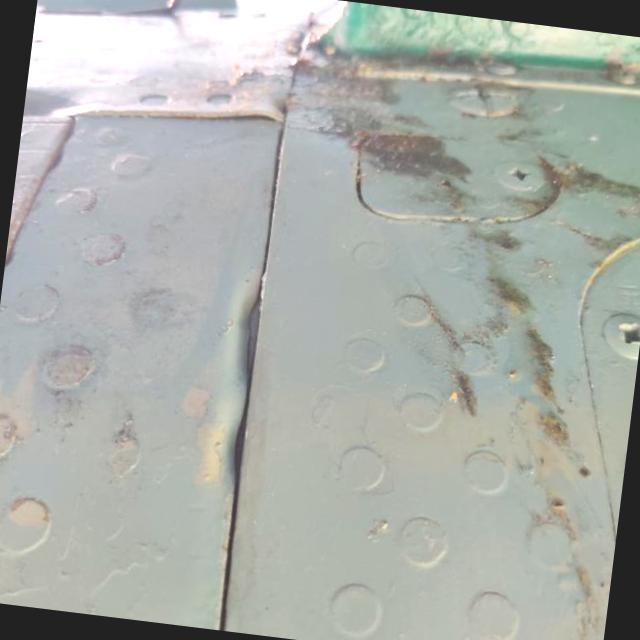dent: (156, 245, 316, 513)
